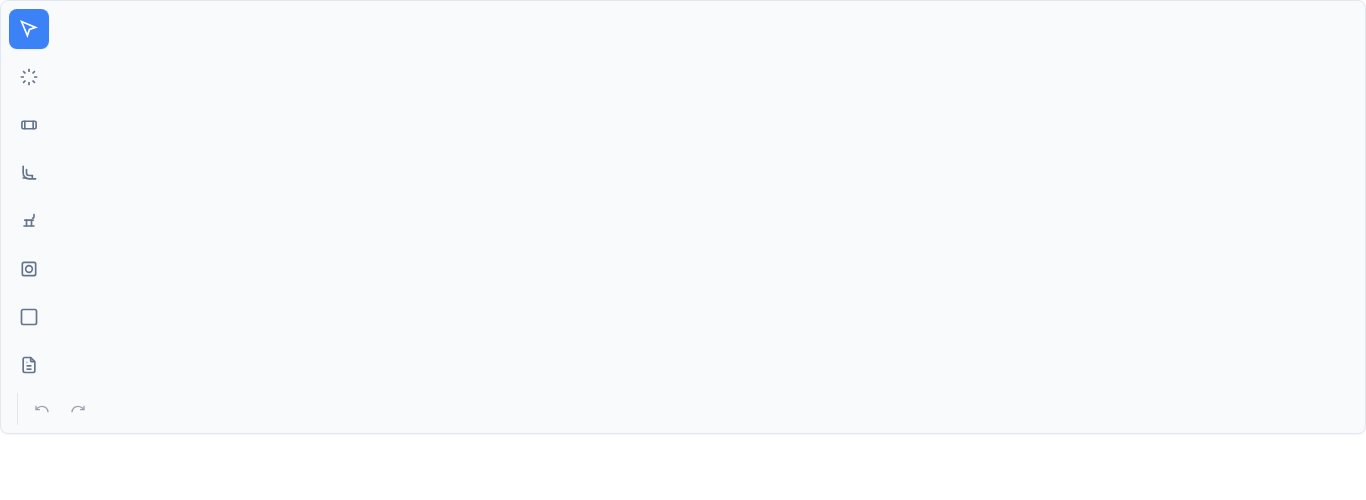
Test case: Toolbar - Undo/Redo Integration › Tool Buttons › should show fitting selector when fitting tool active
Click the button named "fitting". click: coordinates (29, 173)
box: [9,153,49,193]
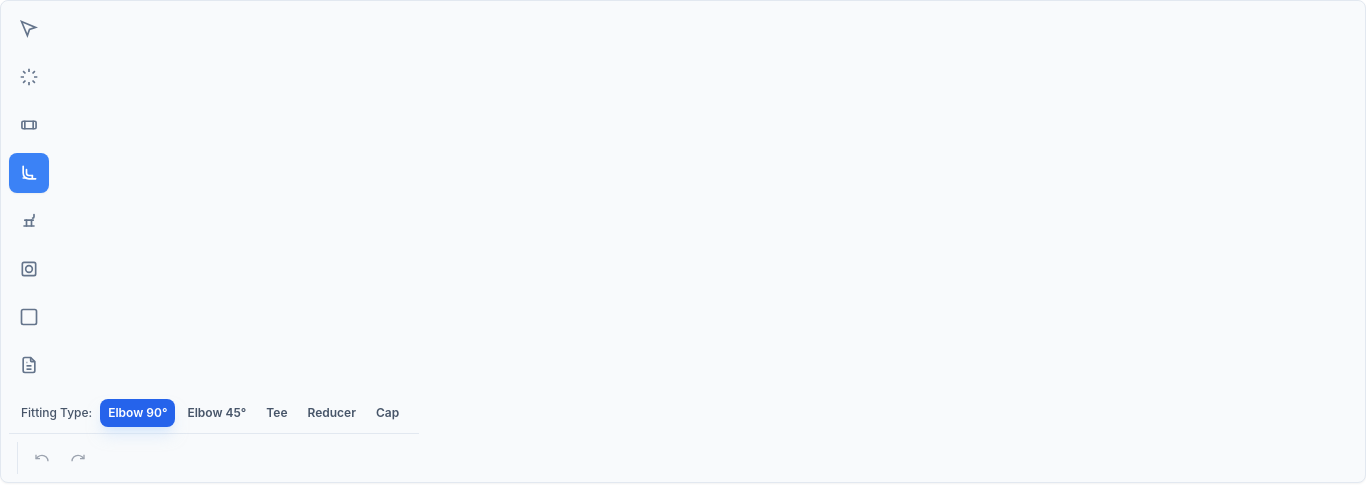
expect the text "Fitting Type:" is shown: met, box [21,405,92,421]
